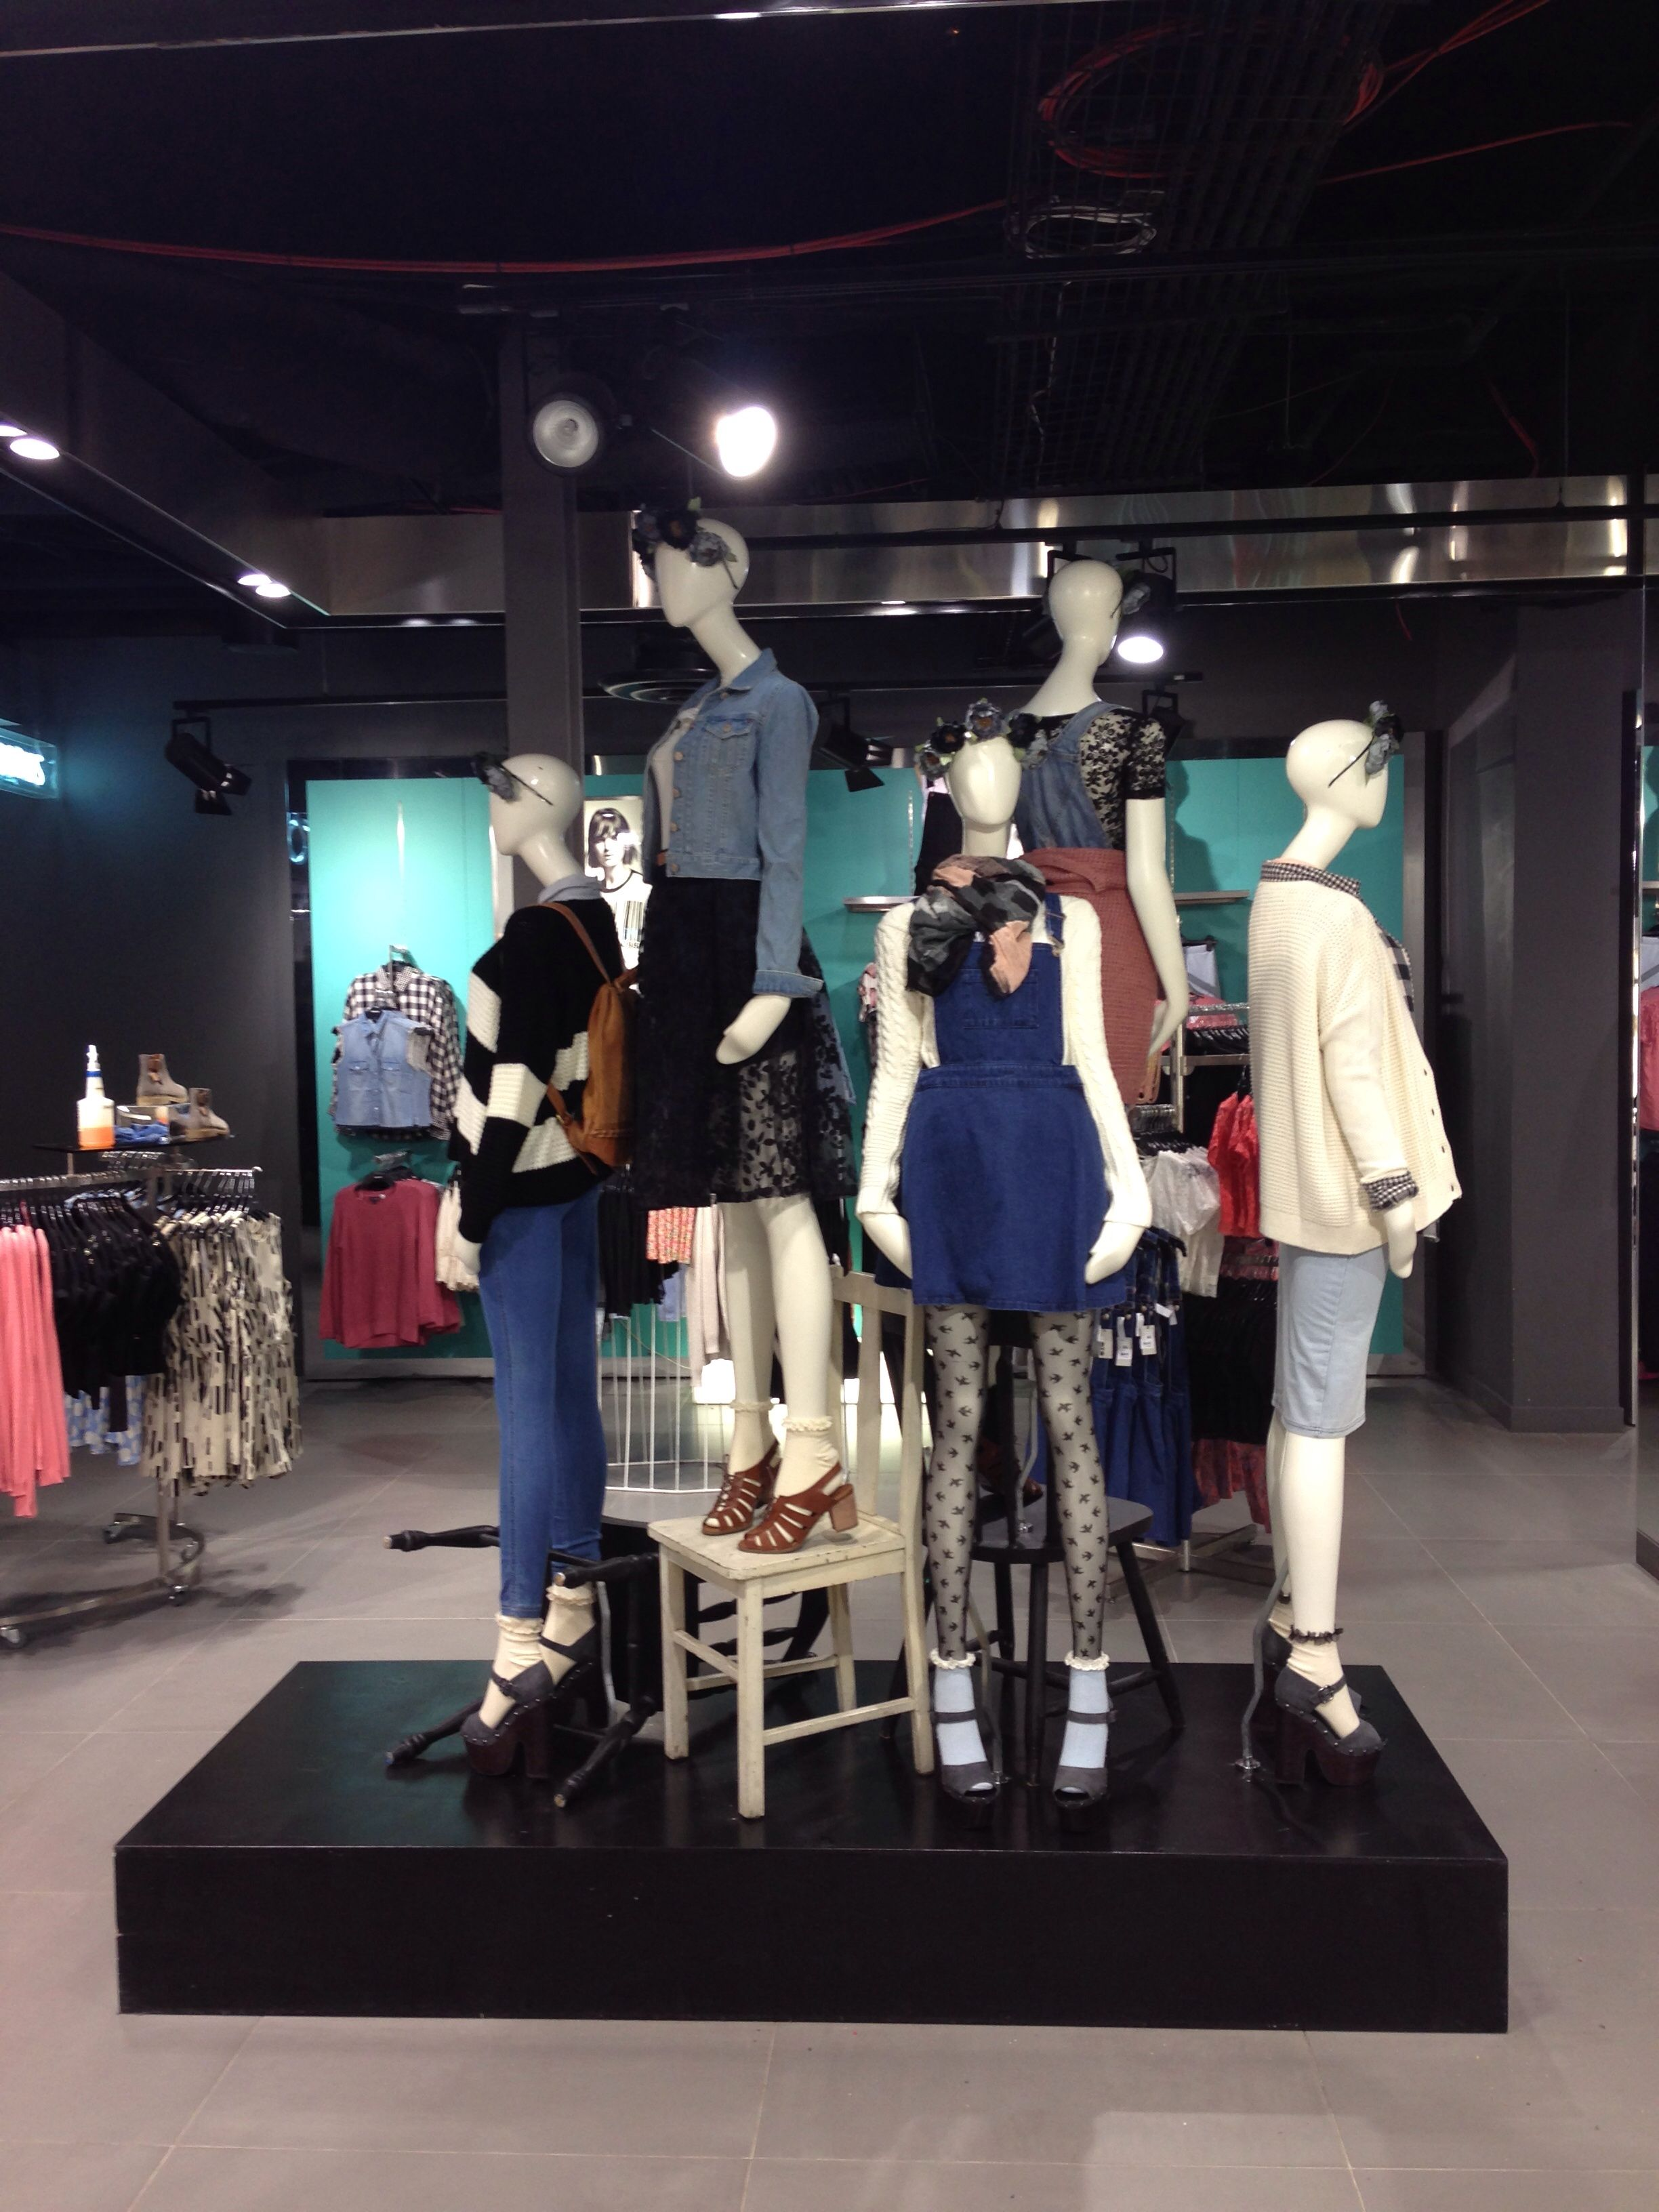person-like: (856, 708, 1156, 1809), (628, 466, 868, 1559), (1235, 708, 1483, 1767), (425, 741, 631, 1770), (996, 550, 1200, 1131)
